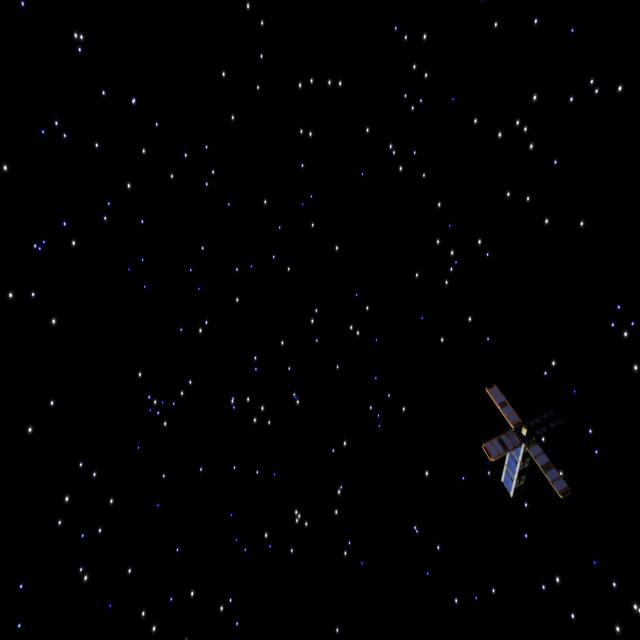satellite: (477, 381, 572, 518)
